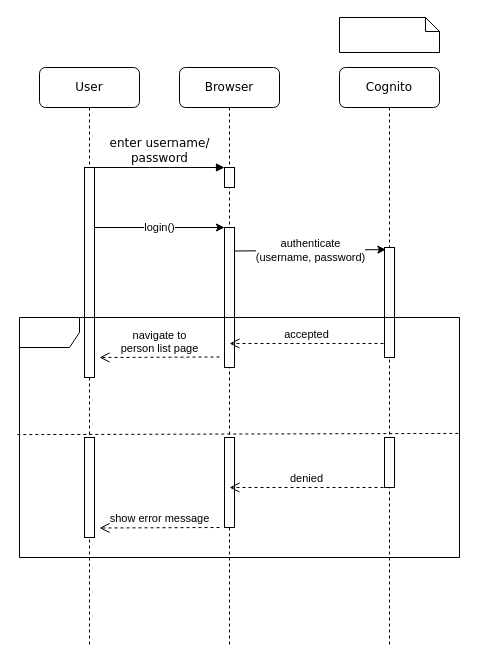
The diagram is 479 pixels wide and 665 high, and some of its shapes have lost their labels. Here are the shapes that lost their labels. From the top down, the centre of each, then its label:
[389,34]: Simpified
[239,437]: alt
